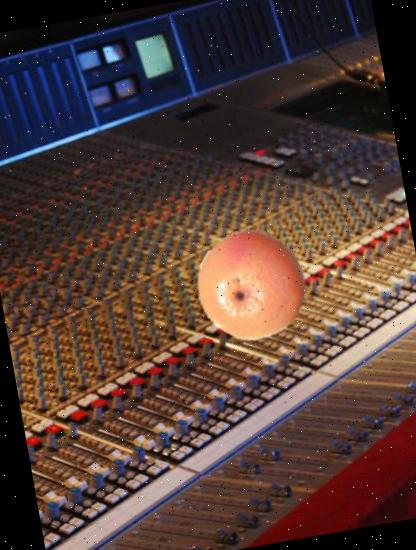Grapefruit: (187, 220, 316, 350)
